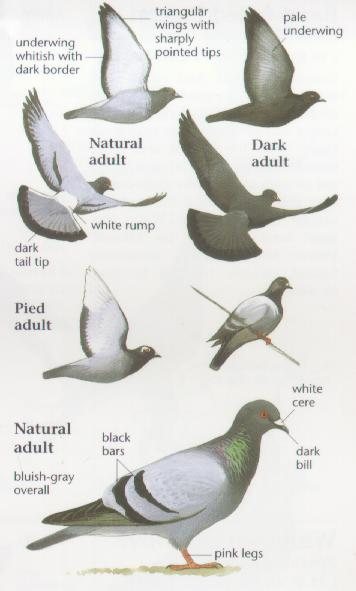Flying Rat: (32, 383, 290, 574), (12, 95, 138, 242), (186, 140, 323, 268), (227, 13, 331, 138), (67, 12, 177, 124), (42, 277, 158, 378), (204, 265, 300, 378)
